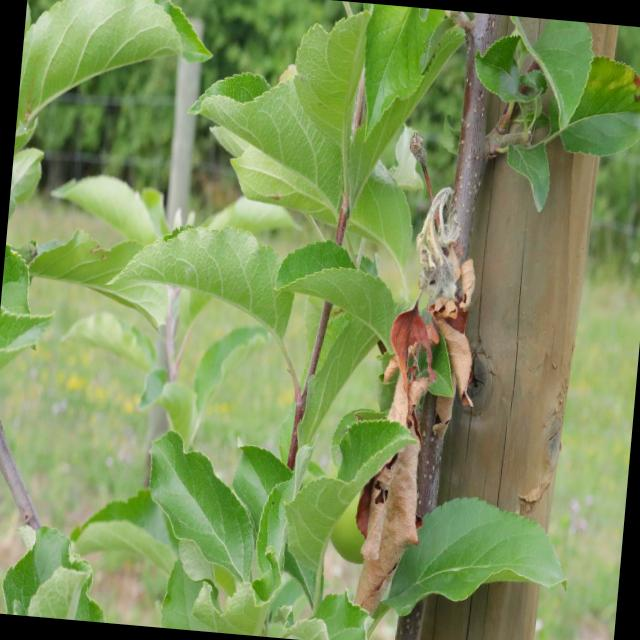-FireBlight-: (356, 196, 490, 604)
